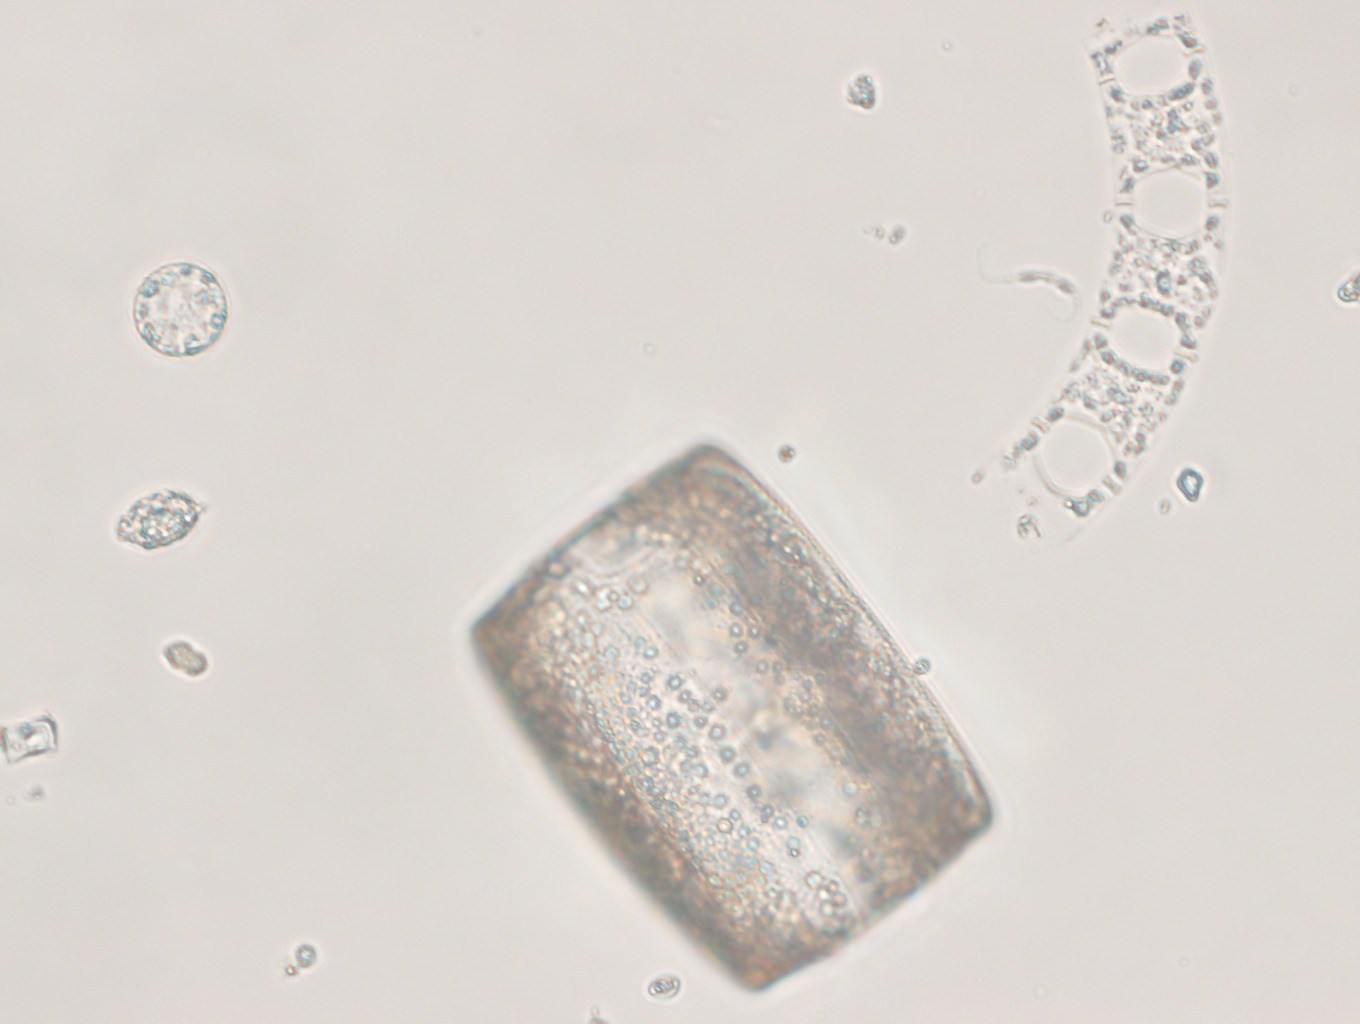coscinodiscus flank: (463, 432, 994, 991)
eucampia: (965, 13, 1223, 552)
